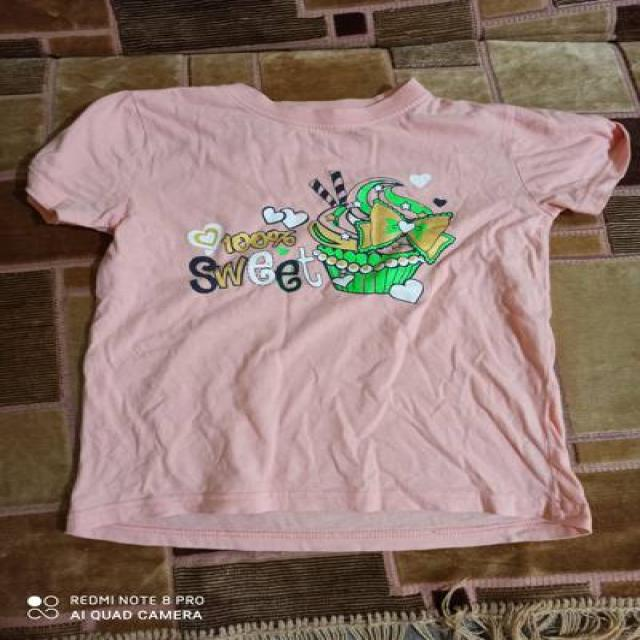Clothes -Biodegradable-: (27, 73, 622, 552)
